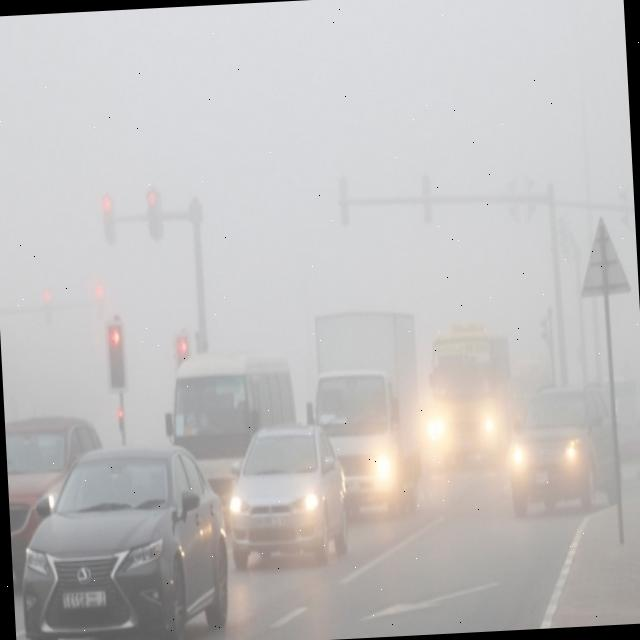bus: (312, 310, 424, 512)
car: (17, 431, 235, 640), (222, 417, 352, 572), (510, 381, 618, 516), (5, 413, 111, 544)
truck: (162, 345, 302, 542), (426, 323, 520, 476)
